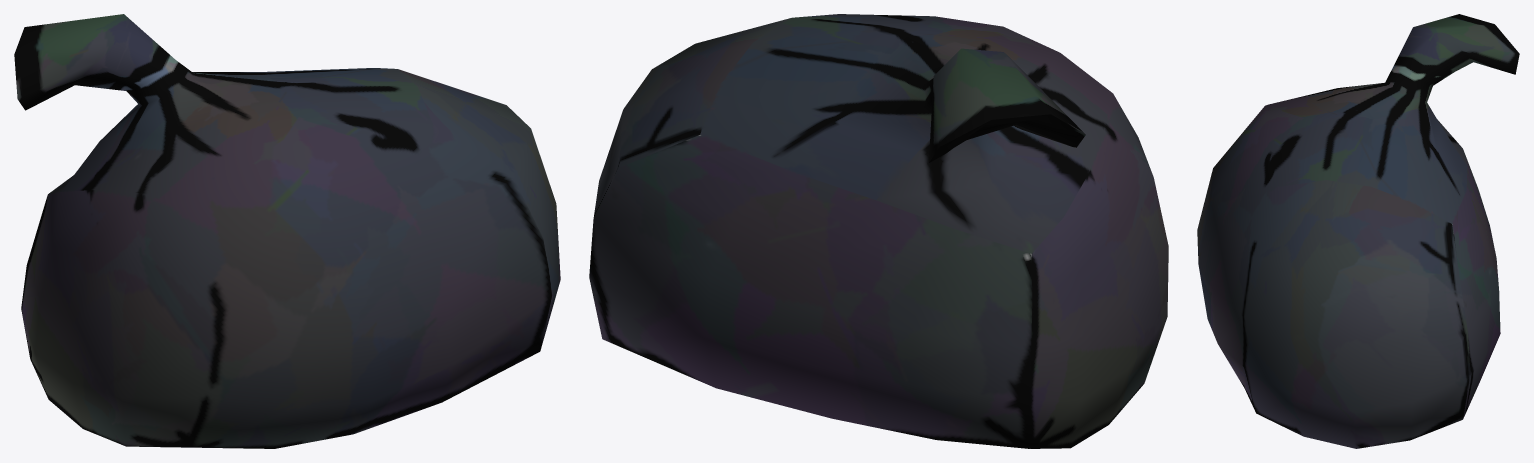
File: TrashBag_L.glb
The picture shows the model from 3 angles, left to right: view 1: azimuth 30°, elevation 25°; view 2: azimuth 150°, elevation 25°; view 3: azimuth 270°, elevation 25°; orthographic projection. The views are drawn at different scales.
Visible parts, largest first — view 1: TrashBagL; view 2: TrashBagL; view 3: TrashBagL.
Part boxes in pixels (x1,y1,x2,y2): TrashBagL: (14,14,560,448); TrashBagL: (589,14,1168,448); TrashBagL: (1197,14,1519,448).
Size of the model in its own units: 1.69 by 1.25 by 1.25.
1 material, 1 textured.
